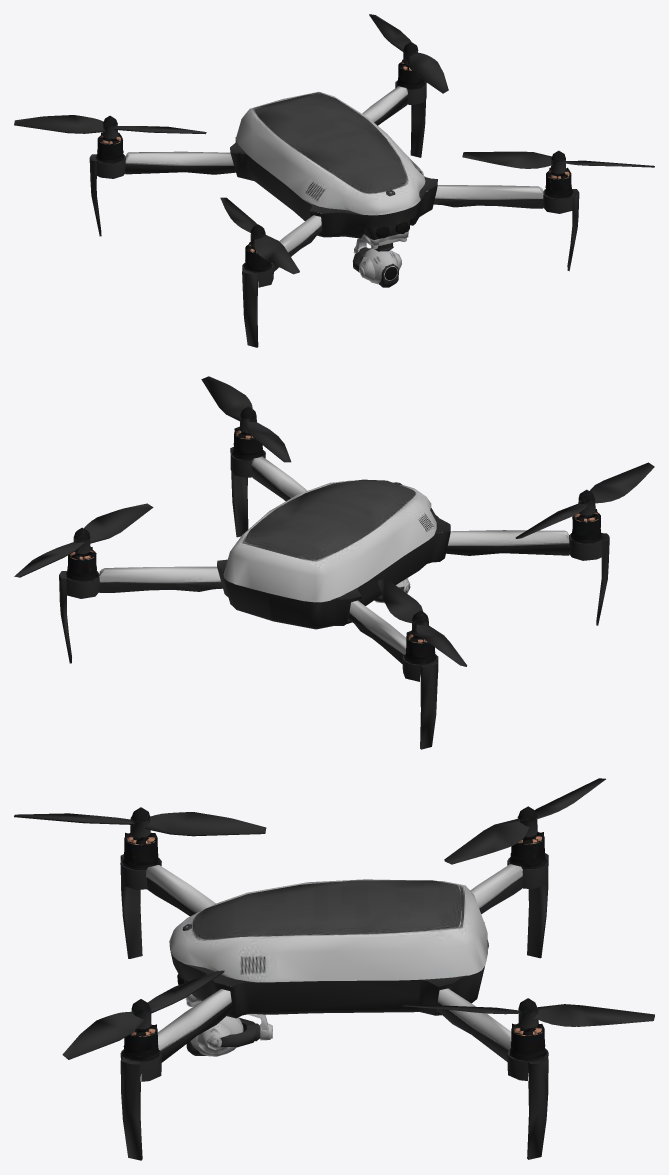
File: dron.glb
The picture shows the model from 3 angles, top to bottom: view 1: azimuth 30°, elevation 25°; view 2: azimuth 150°, elevation 25°; view 3: azimuth 270°, elevation 25°; orthographic projection. The views are drawn at different scales.
Visible parts, largest first — view 1: Object_96; view 2: Object_96; view 3: Object_96.
Part boxes in pixels (<box>): Object_96: <box>14,14,654,347</box>; Object_96: <box>14,376,654,749</box>; Object_96: <box>14,778,654,1160</box>.
Size of the model in its own units: 2.77 by 0.745 by 2.68.
Materials: 1 (1 with a texture image).
